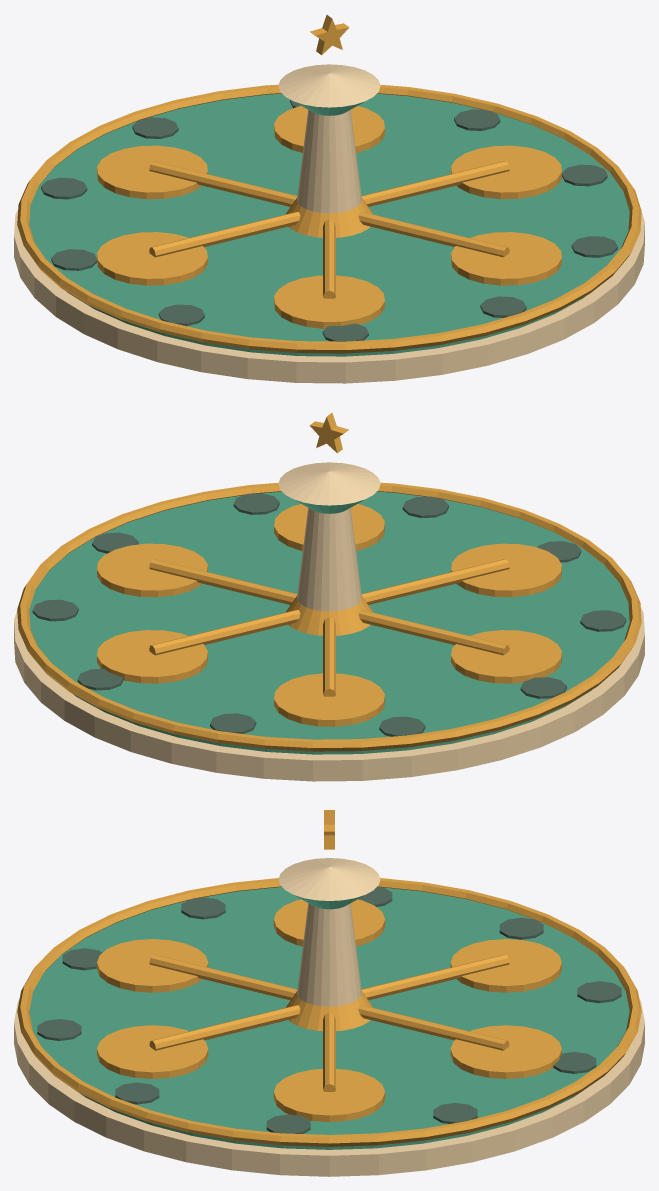
File: ParkParkSwanHub.obj
The picture shows the model from 3 angles, top to bottom: view 1: azimuth 30°, elevation 25°; view 2: azimuth 150°, elevation 25°; view 3: azimuth 270°, elevation 25°; orthographic projection.
Visible parts, largest first — view 1: ParkParkSwanHub; view 2: ParkParkSwanHub; view 3: ParkParkSwanHub.
Part boxes in pixels (x1,y1,x2,y2): ParkParkSwanHub: (14, 15, 644, 383); ParkParkSwanHub: (14, 413, 644, 781); ParkParkSwanHub: (14, 810, 644, 1176).
Bounding box in the file's own units: 13.6 × 5.55 × 13.6.
